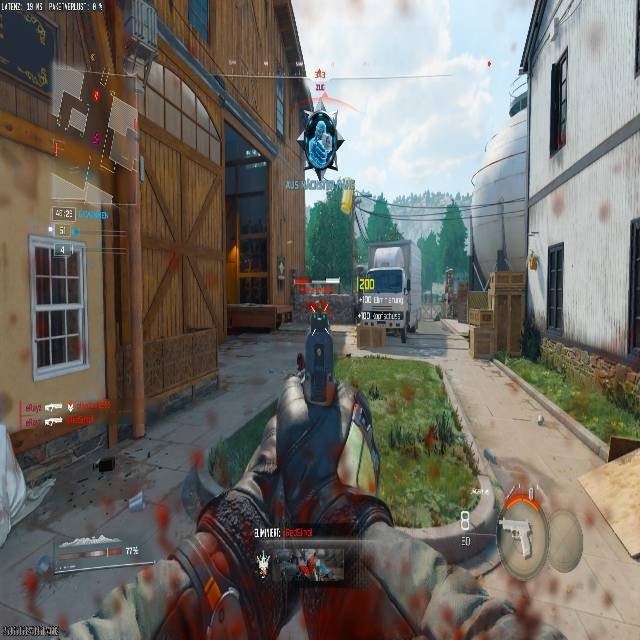player: (305, 300, 332, 335)
